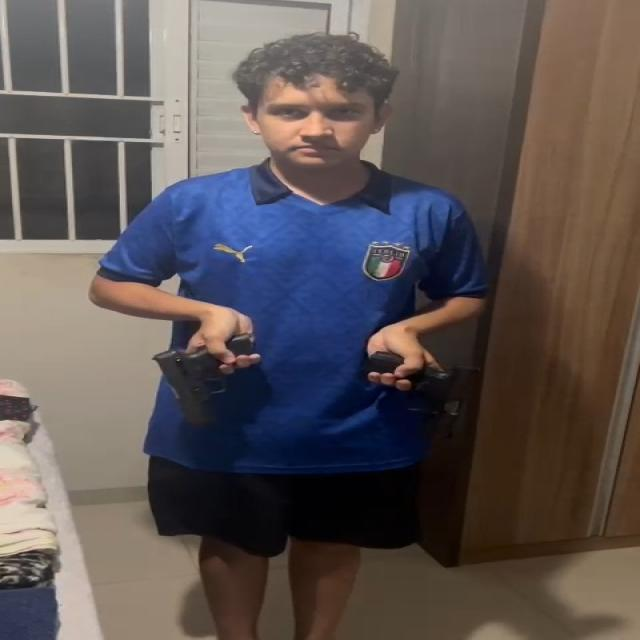gun: (146, 336, 262, 424), (368, 358, 480, 437)
